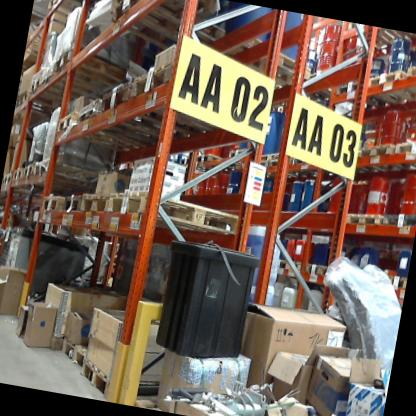pallet: (119, 56, 262, 143), (185, 16, 320, 104), (46, 42, 177, 122), (104, 181, 251, 244), (102, 0, 236, 66), (96, 75, 190, 144), (70, 94, 166, 157), (21, 62, 113, 126), (70, 352, 161, 409), (50, 103, 138, 157), (242, 128, 323, 183), (350, 123, 413, 186), (32, 152, 118, 197), (325, 74, 407, 121), (362, 61, 416, 114), (37, 0, 116, 34), (13, 92, 77, 129), (214, 138, 265, 183), (339, 196, 385, 236), (387, 122, 416, 182), (190, 147, 235, 182), (379, 199, 416, 241), (105, 0, 163, 21), (79, 183, 112, 219), (59, 331, 88, 367), (397, 49, 416, 102), (37, 187, 66, 221), (61, 183, 87, 220), (382, 265, 408, 295), (170, 146, 195, 176), (303, 256, 331, 282), (277, 251, 305, 274), (20, 160, 37, 188), (9, 161, 25, 188), (1, 166, 15, 190)
